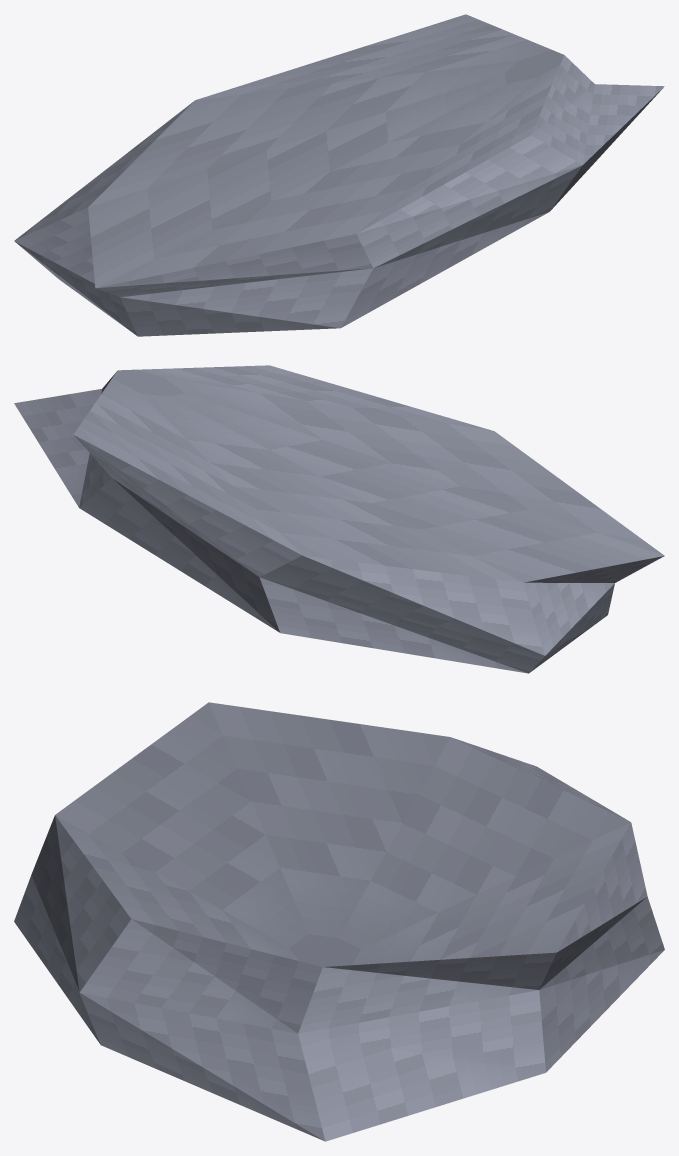
File: cave-and-crystal-networks-fallen-ceiling-slab-f3ec7bcf.glb
3 renders of one model, top to bottom at view 1: azimuth 30°, elevation 25°; view 2: azimuth 150°, elevation 25°; view 3: azimuth 270°, elevation 25°, orthographic. The views are drawn at different scales.
Visible parts, largest first — view 1: fallen-ceiling-slab; view 2: fallen-ceiling-slab; view 3: fallen-ceiling-slab.
Boxes of the visible parts, x1,y1,x2,y2 form: fallen-ceiling-slab: (14,14,664,336); fallen-ceiling-slab: (14,365,664,673); fallen-ceiling-slab: (14,702,664,1141).
Bounding box in the file's own units: 2.61 × 0.6205 × 1.48.
Materials: 1 (1 with a texture image).
